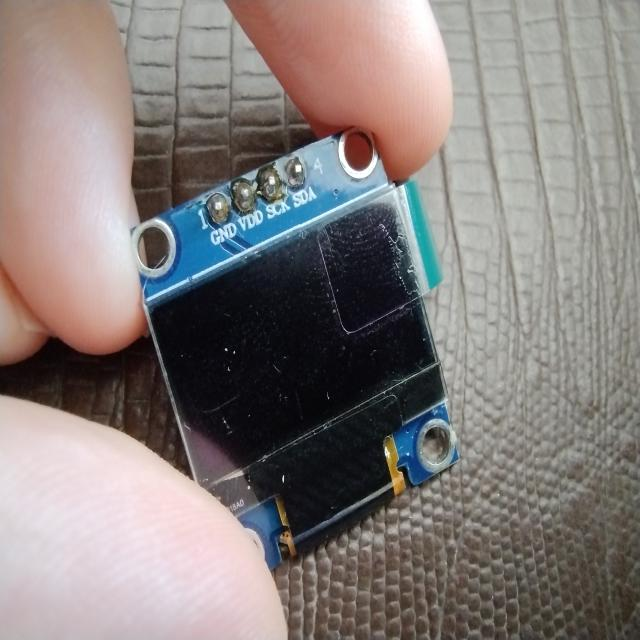oled: (122, 119, 470, 582)
